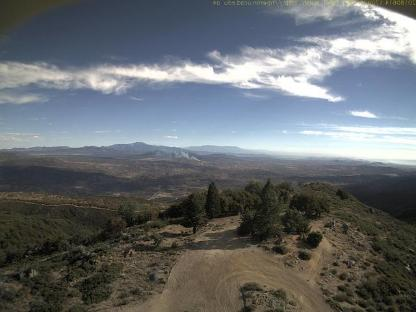smoke: (160, 148, 206, 164)
